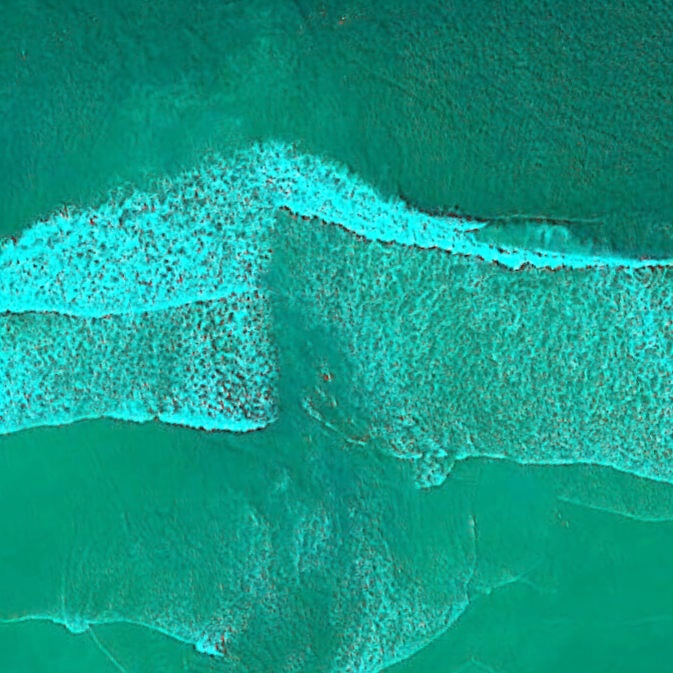rip_current: (179, 43, 458, 631)
